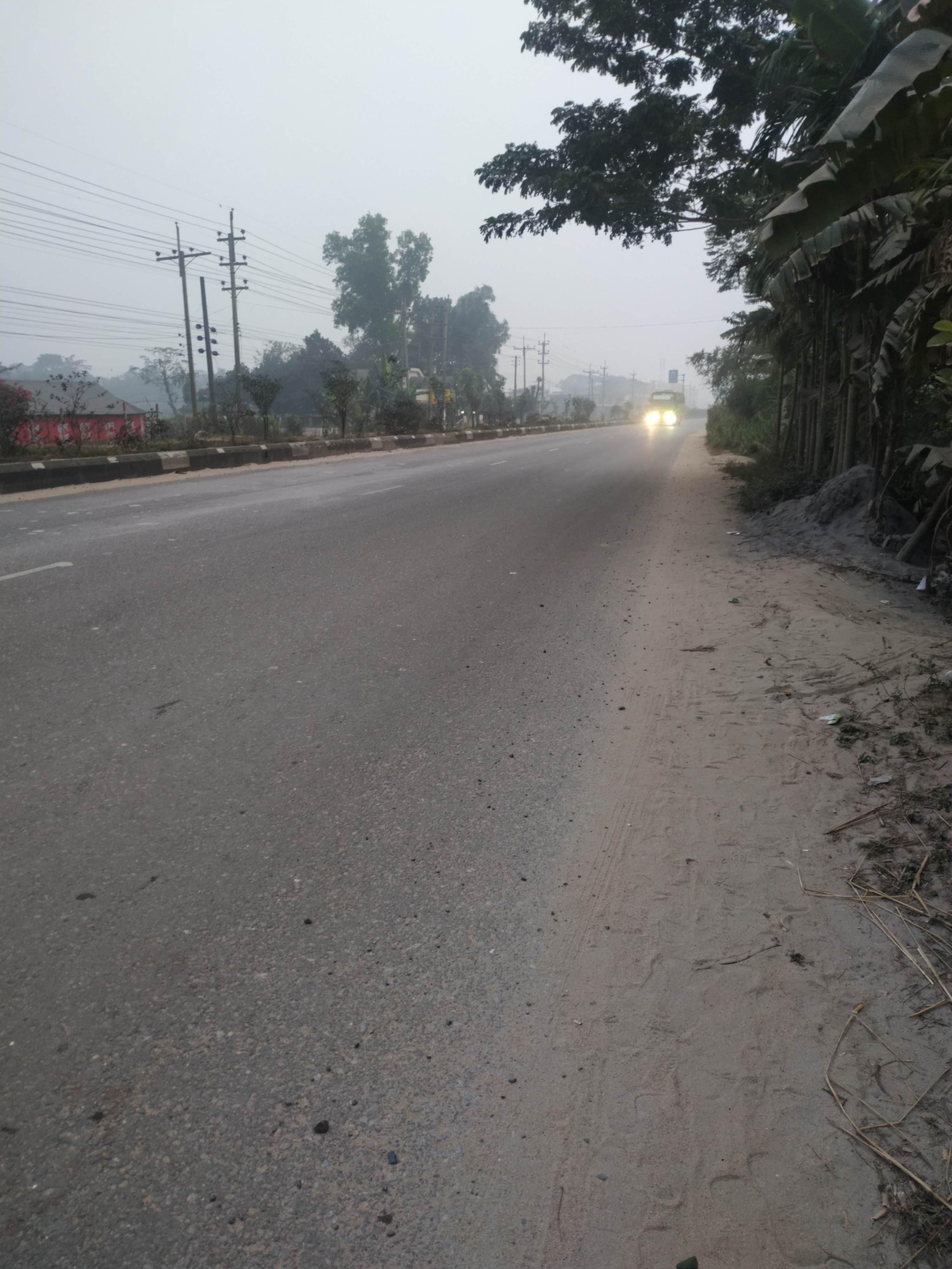Bus: (643, 375, 697, 437)
